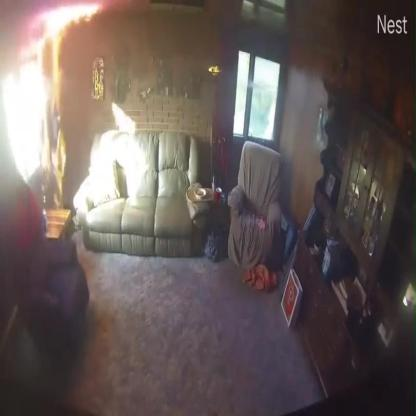fire: (35, 47, 69, 203), (22, 2, 103, 46)
